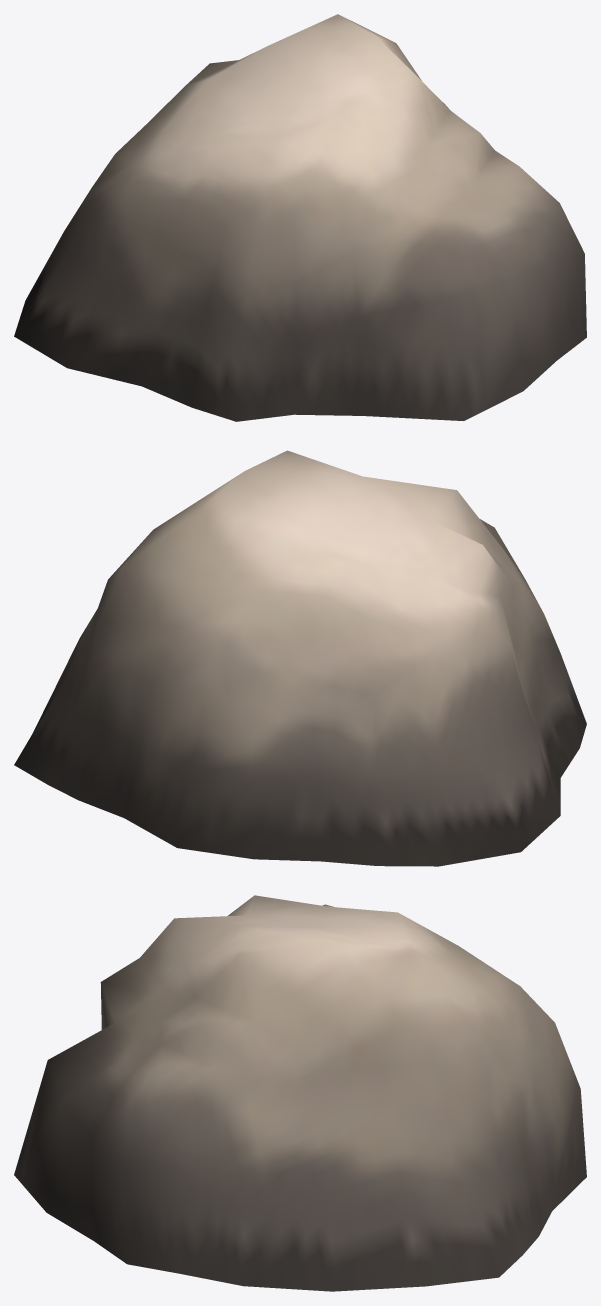
File: RocherB.FBX
3 views of the same model, one above another, from view 1: azimuth 30°, elevation 25°; view 2: azimuth 150°, elevation 25°; view 3: azimuth 270°, elevation 25° (orthographic). The views are drawn at different scales.
Parts seen in each view (by area): view 1: RocherB; view 2: RocherB; view 3: RocherB.
Part boxes in pixels (<box>): RocherB: <box>14,14,586,421</box>; RocherB: <box>14,450,586,866</box>; RocherB: <box>14,895,586,1291</box>.
Bounding box in the file's own units: 1.37 × 0.7009 × 1.37.
